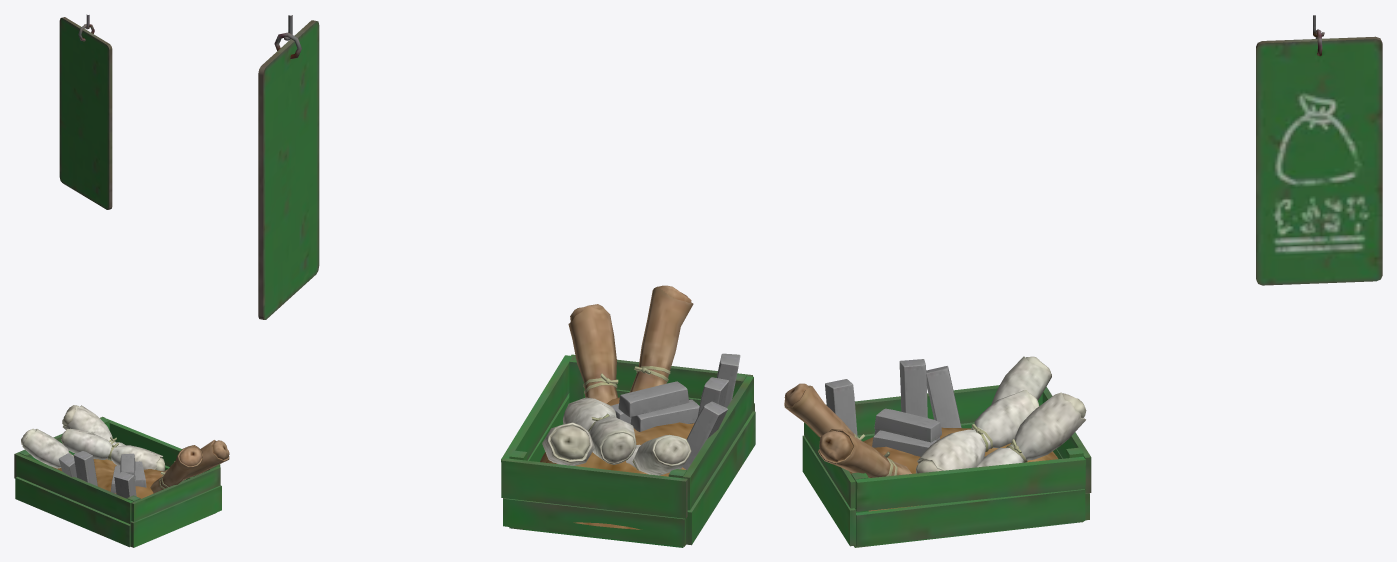
File: SM_MarketProp_Item_87f036.glb
The picture shows the model from 3 angles, left to right: view 1: azimuth 30°, elevation 25°; view 2: azimuth 150°, elevation 25°; view 3: azimuth 270°, elevation 25°; orthographic projection. The views are drawn at different scales.
Size of the model in its own units: 0.9715 by 1.99 by 1.95.
Materials: 2 (2 with a texture image).
